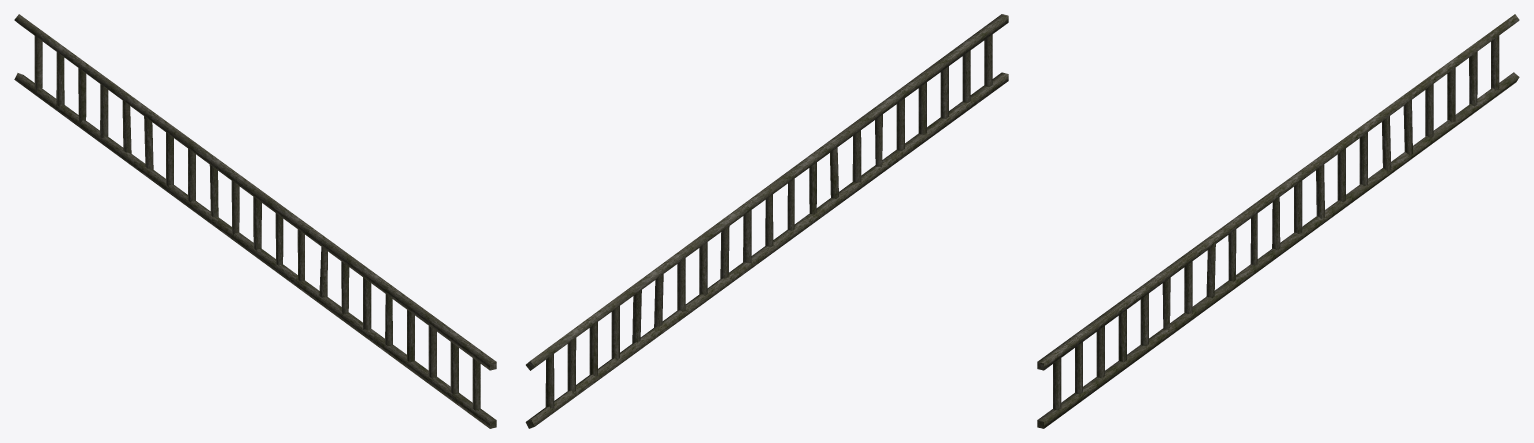
The model's file is TI_Ladder_01.fbx.
The picture shows the model from 3 angles, left to right: view 1: azimuth 30°, elevation 25°; view 2: azimuth 150°, elevation 25°; view 3: azimuth 330°, elevation 25°; orthographic projection.
Visible parts, largest first — view 1: TI_Ladder_01; view 2: TI_Ladder_01; view 3: TI_Ladder_01.
Part boxes in pixels (x1,y1,x2,y2): TI_Ladder_01: (14, 14, 496, 428); TI_Ladder_01: (525, 14, 1008, 428); TI_Ladder_01: (1037, 14, 1519, 428).
Bounding box in the file's own units: 0.1048 × 0.6938 × 8.75.
